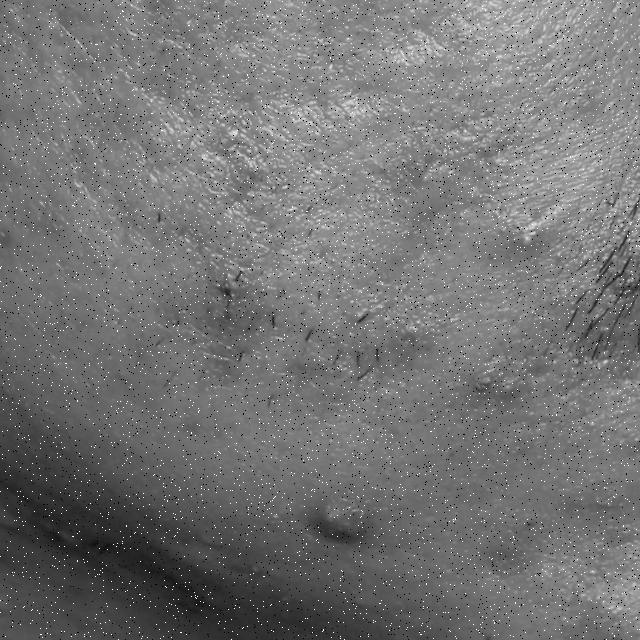nodules: (188, 232, 272, 408), (294, 474, 390, 570)
